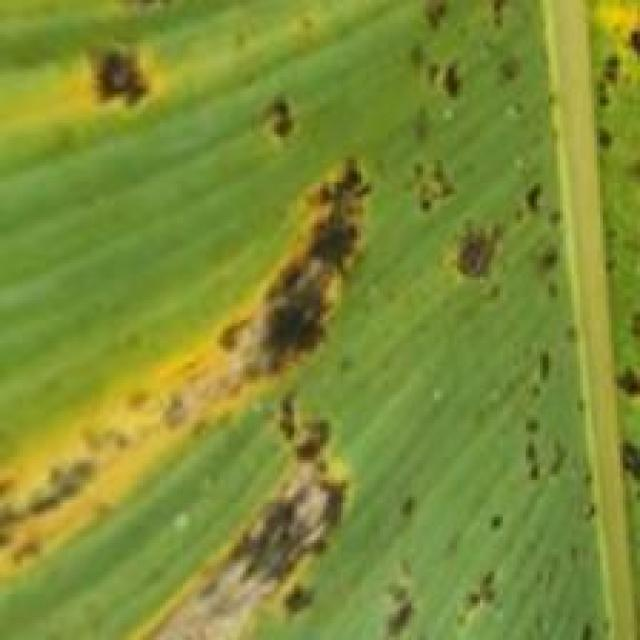Downey_mildrew: (1, 161, 640, 640), (0, 0, 543, 160), (565, 0, 640, 163), (395, 3, 531, 33)
